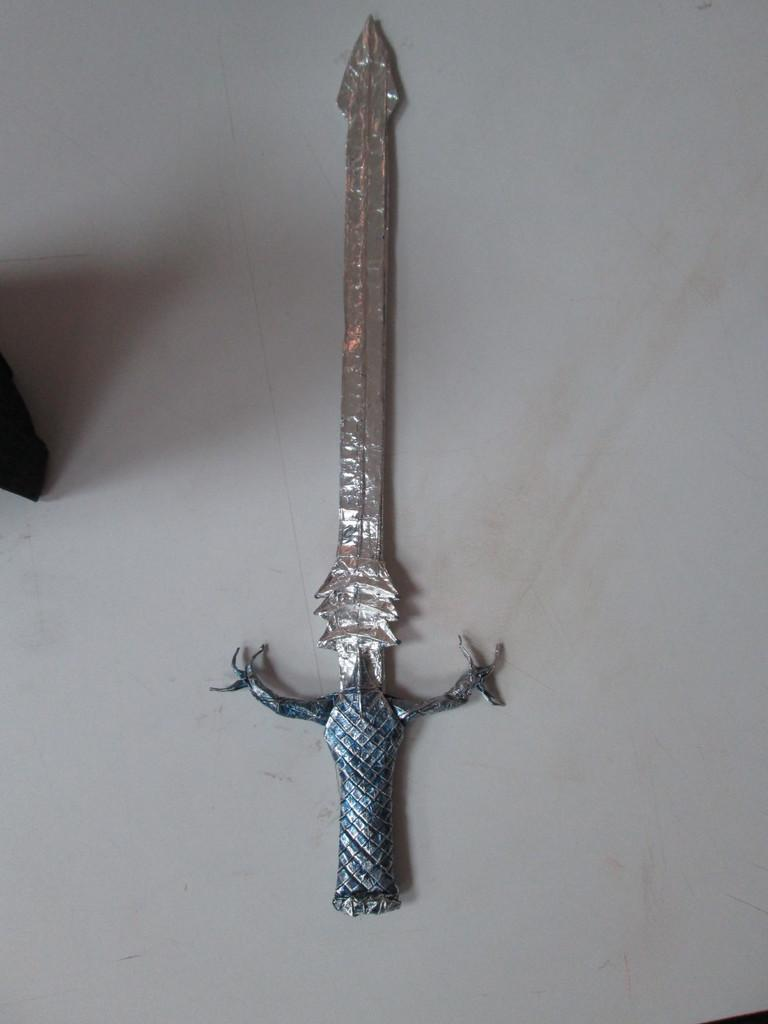Sword: (211, 19, 501, 918)
